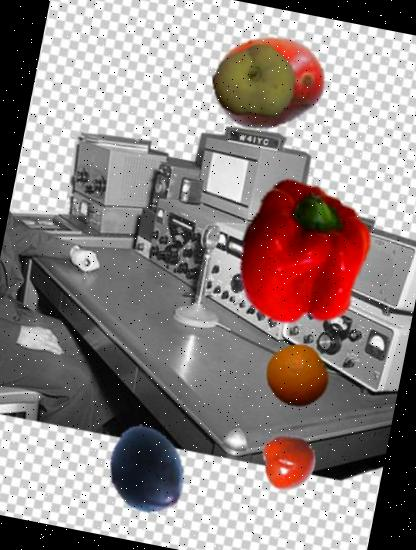Cherry: (255, 428, 321, 495)
Orange: (260, 338, 335, 413)
Peach: (205, 32, 303, 130)
Pepper: (217, 171, 387, 341)
Plum: (94, 416, 200, 522)
Potato: (202, 15, 336, 149)
